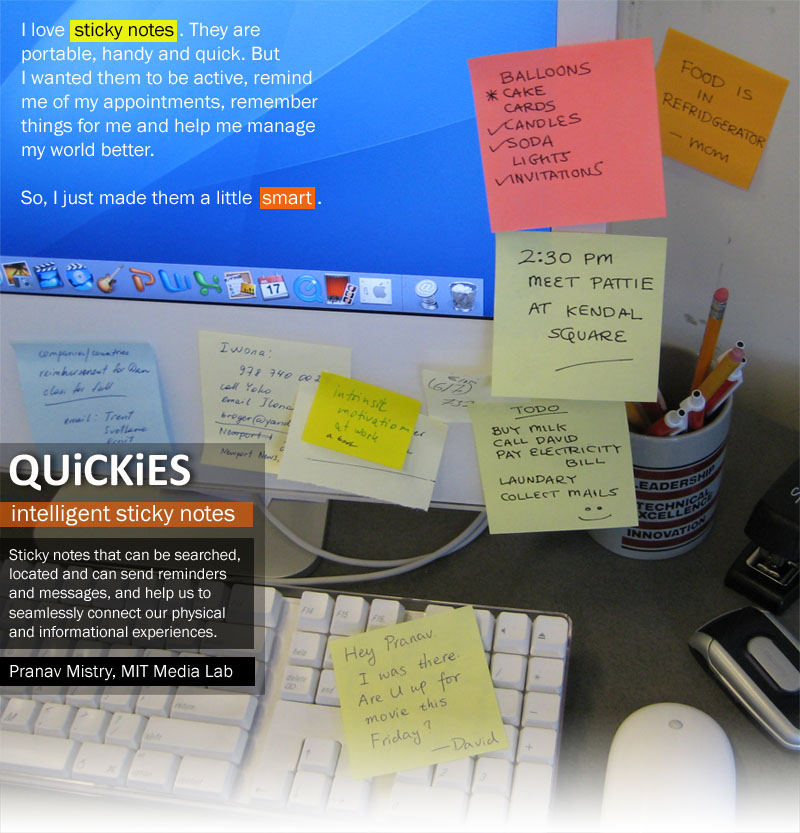Note: (466, 40, 664, 236), (335, 608, 509, 781), (493, 235, 664, 407), (467, 390, 639, 537), (199, 333, 352, 477), (654, 24, 783, 191), (284, 385, 444, 517), (12, 340, 173, 446), (316, 371, 413, 468), (418, 368, 505, 424)
